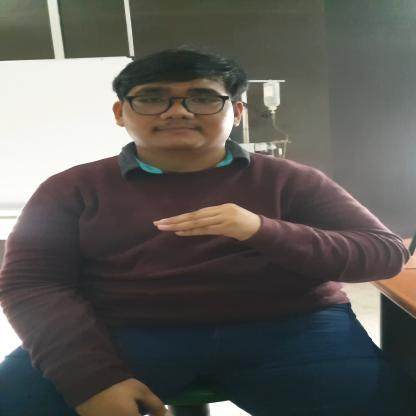Malam: (150, 203, 268, 240)
